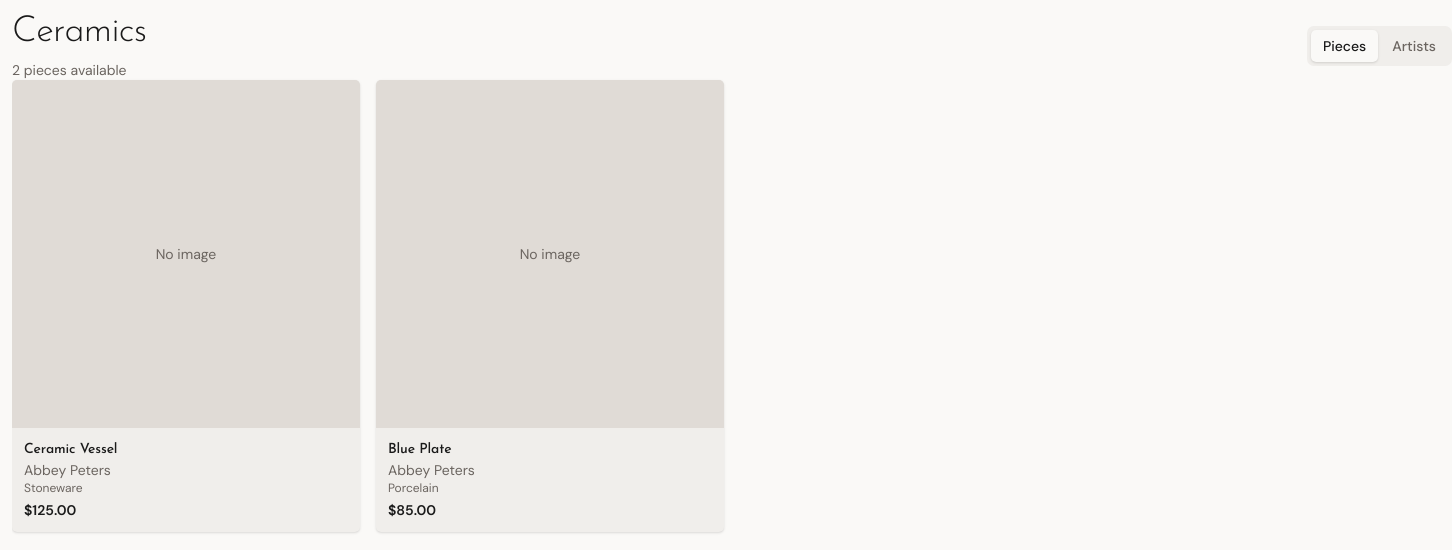
Scenario: CategoryBrowseView › should show singular artist count
Click the tab "Artists" at (1414,46), box x1=1380 y1=30 x2=1448 y2=62
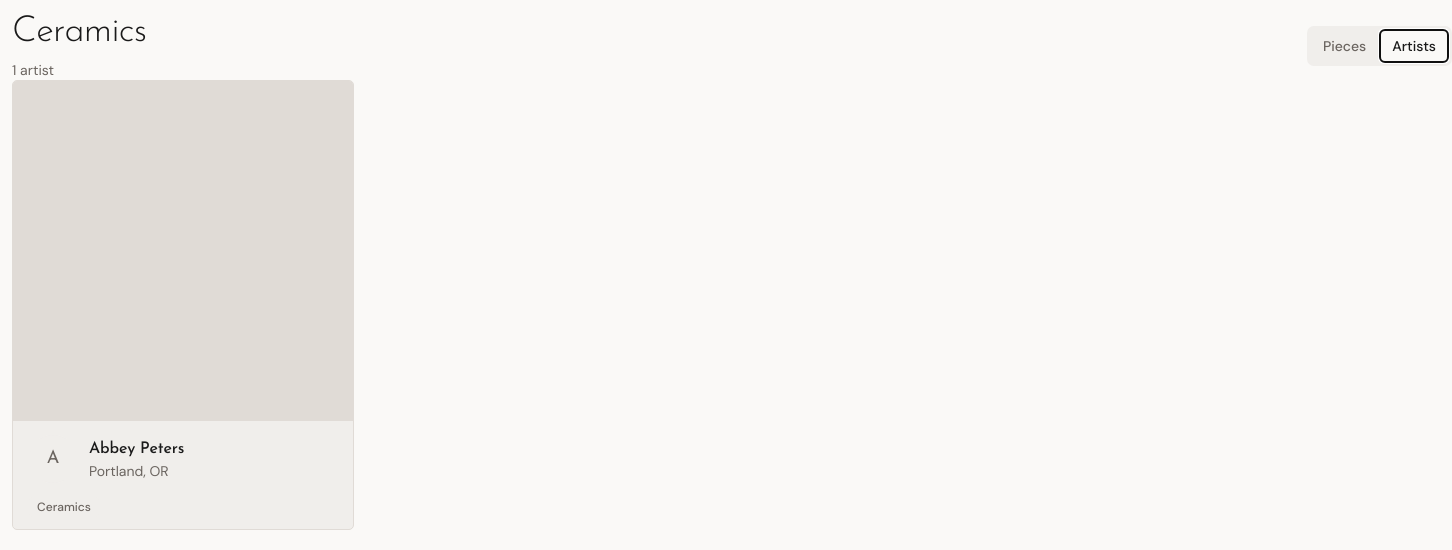
Check: the text "1 artist" is shown, box x1=12 y1=61 x2=54 y2=79
